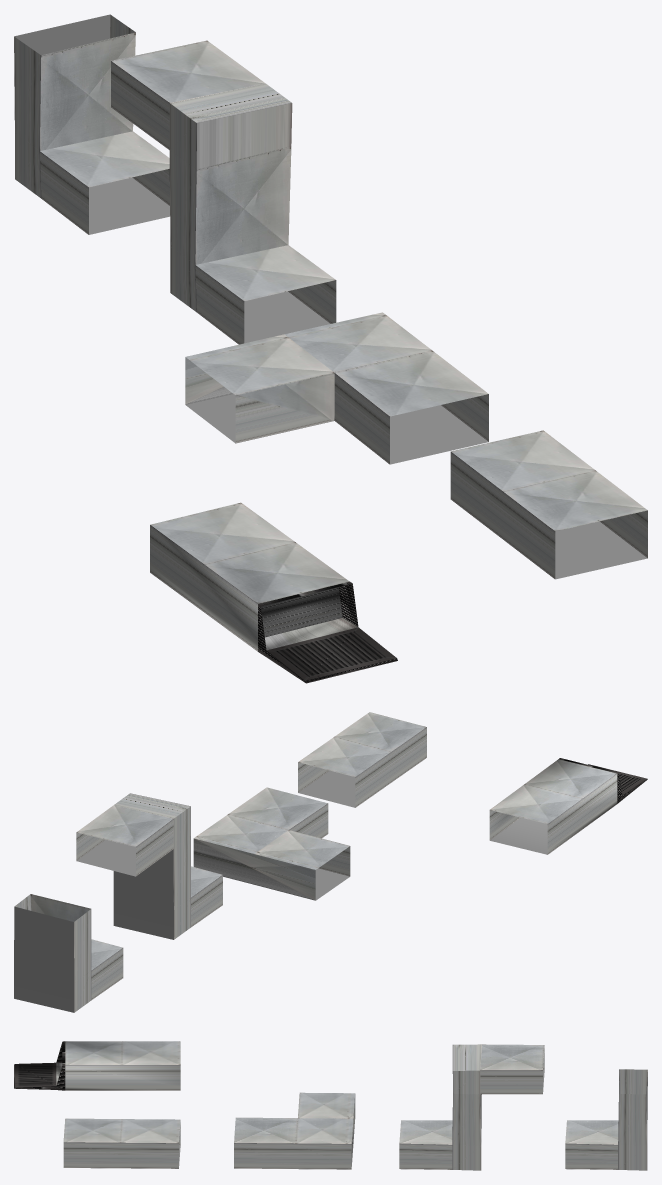
The model's file is Vent.fbx.
The picture shows the model from 3 angles, top to bottom: view 1: azimuth 30°, elevation 25°; view 2: azimuth 150°, elevation 25°; view 3: azimuth 270°, elevation 25°; orthographic projection. The views are drawn at different scales.
Parts seen in each view (by area): view 1: Vent_Vertical_Z, Vent_Corner, Vent_Vertical, Vent_Straight.001, Vent_Straight; view 2: Vent_Vertical_Z, Vent_Corner, Vent_Vertical, Vent_Straight.001, Vent_Straight; view 3: Vent_Vertical_Z, Vent_Corner, Vent_Straight.001, Vent_Straight, Vent_Vertical.
Part boxes in pixels (<box>): Vent_Vertical_Z: <box>111,40,336,344</box>; Vent_Corner: <box>185,312,488,464</box>; Vent_Vertical: <box>14,14,170,234</box>; Vent_Straight.001: <box>150,502,397,683</box>; Vent_Straight: <box>450,430,647,579</box>; Vent_Vertical_Z: <box>76,793,222,939</box>; Vent_Corner: <box>193,787,350,900</box>; Vent_Vertical: <box>14,894,123,1012</box>; Vent_Straight.001: <box>489,758,647,854</box>; Vent_Straight: <box>298,712,426,807</box>; Vent_Vertical_Z: <box>399,1044,544,1170</box>; Vent_Corner: <box>234,1092,355,1169</box>; Vent_Straight.001: <box>14,1041,180,1090</box>; Vent_Straight: <box>63,1118,180,1168</box>; Vent_Vertical: <box>565,1069,647,1170</box>.
Bounding box in the file's own units: 1678 × 769 × 4345.
